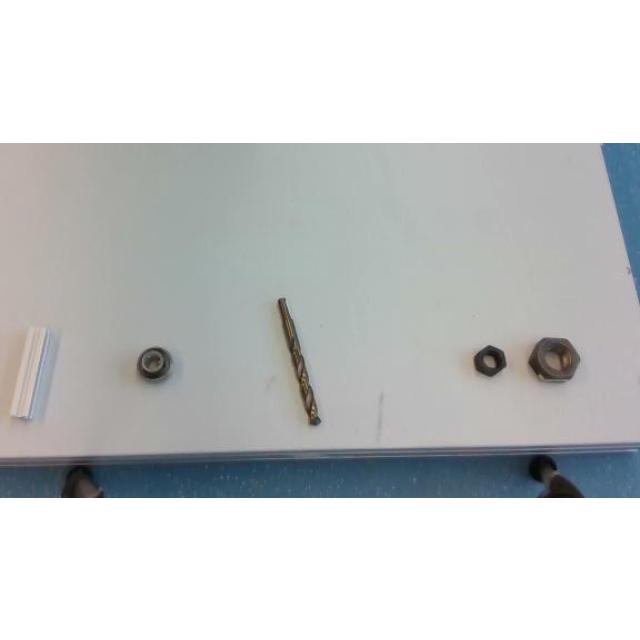Bearing2: (137, 347, 171, 381)
Drill: (278, 296, 320, 424)
F20_20_G: (10, 325, 54, 417)
M20: (473, 344, 505, 376)
M30: (529, 336, 579, 379)
